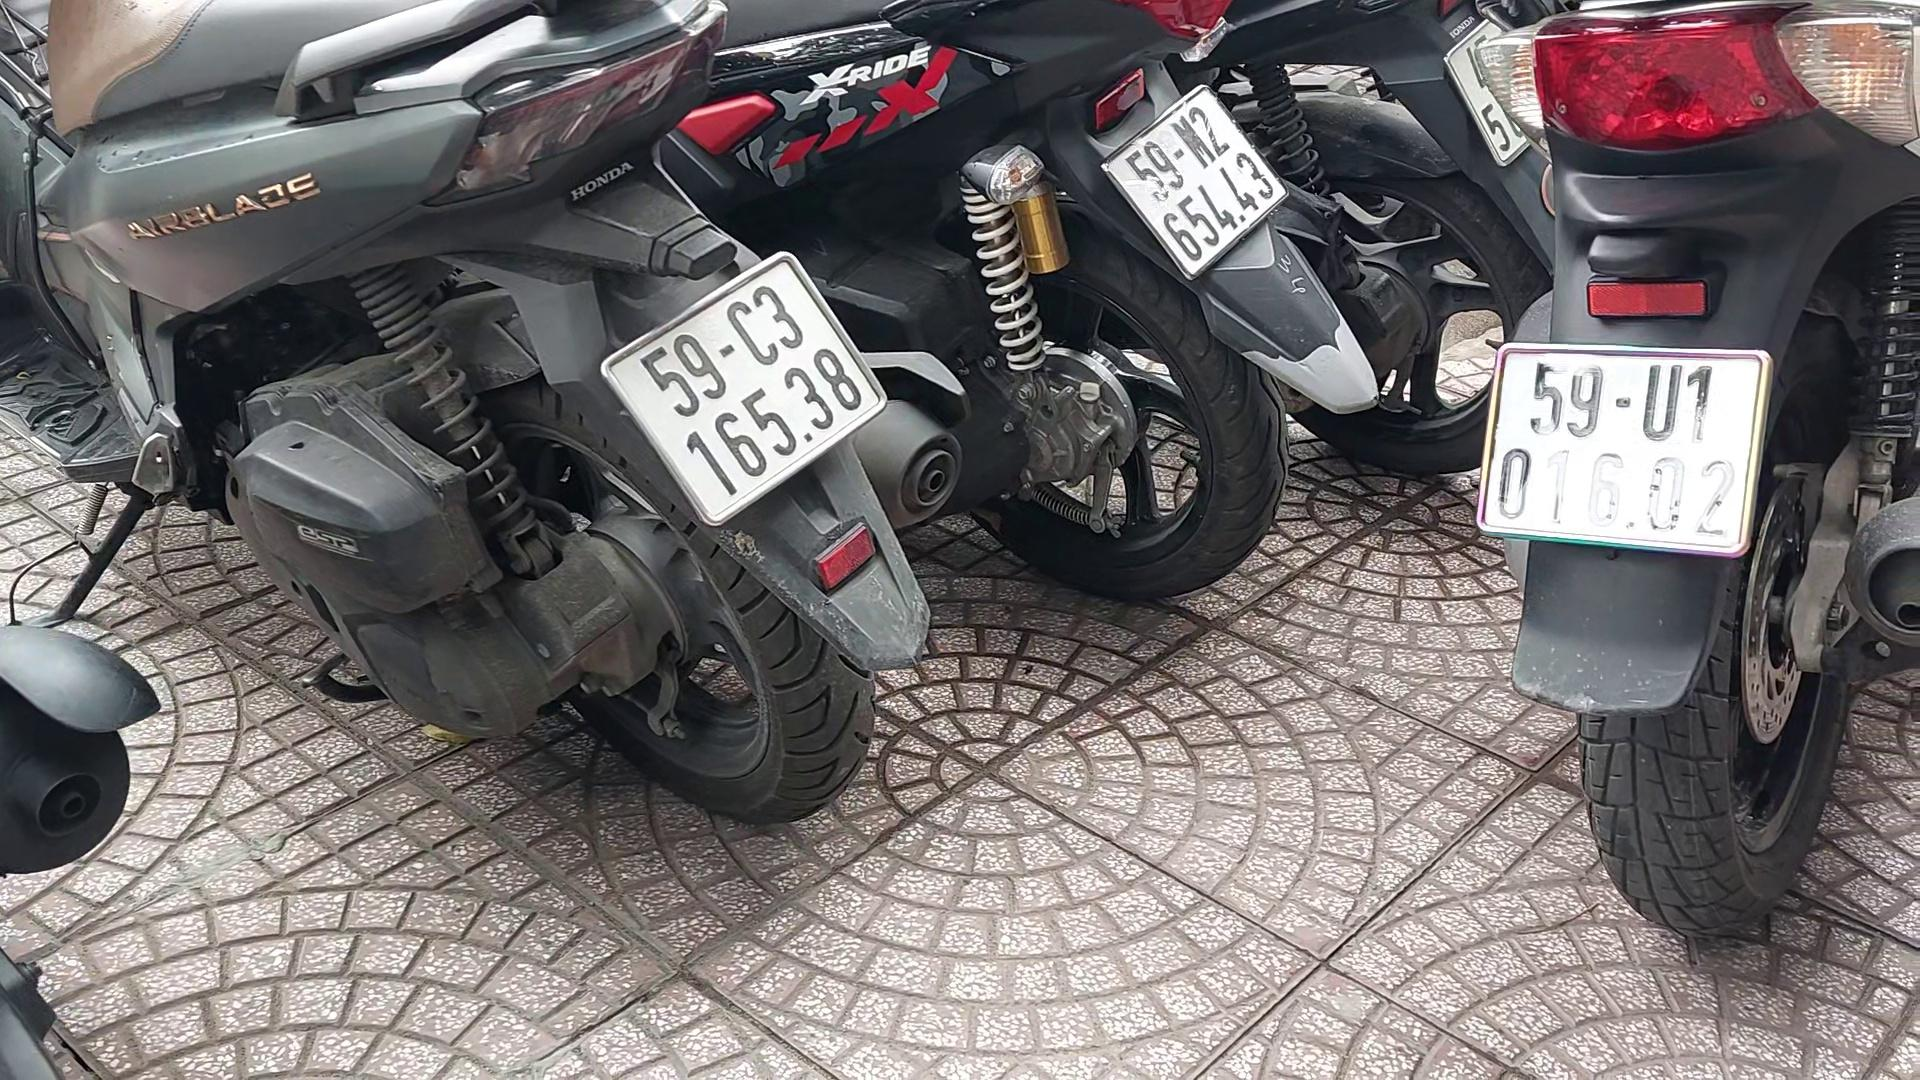numplate: (1470, 340, 1797, 583), (610, 260, 897, 533), (1127, 73, 1303, 287)
